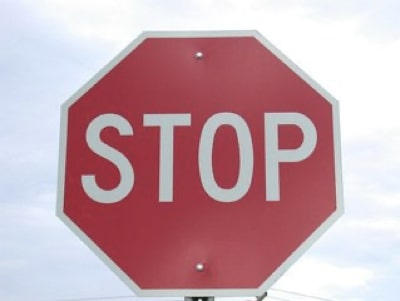StopSign: (53, 28, 347, 299)
